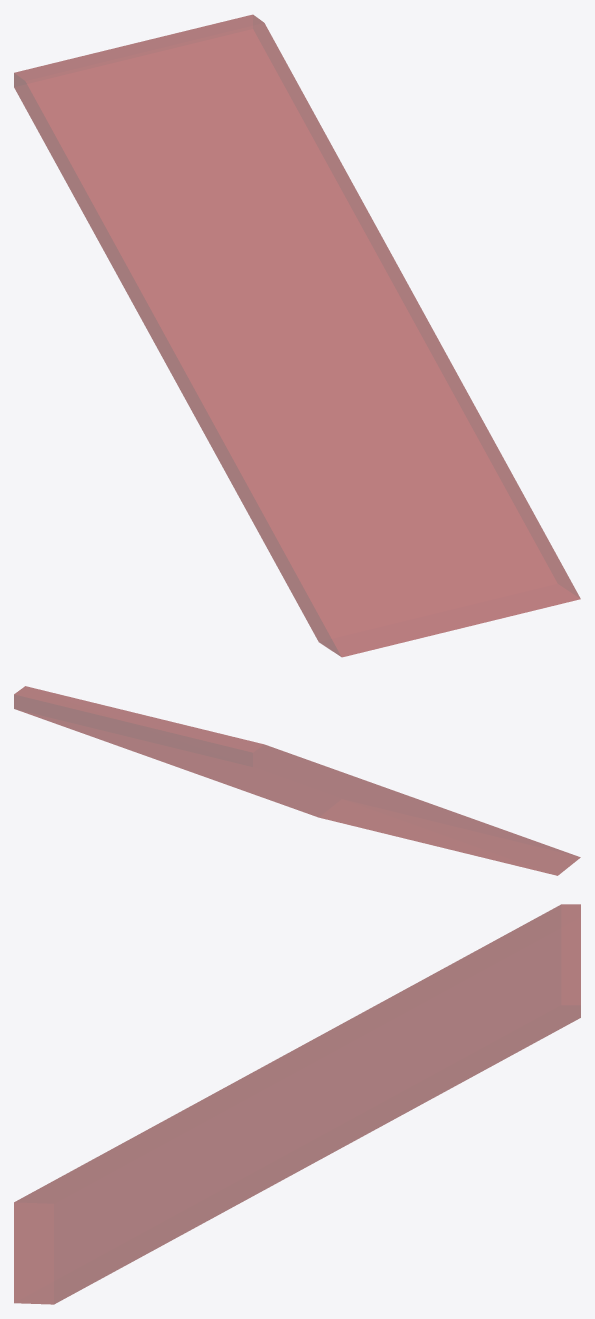
The model's file is SM_Bld_Stairs_01_Collision.fbx.
3 views of the same model, one above another, from view 1: azimuth 30°, elevation 25°; view 2: azimuth 150°, elevation 25°; view 3: azimuth 270°, elevation 25° (orthographic). The views are drawn at different scales.
Visible parts, largest first — view 1: SM_Bld_Stairs_01_Collision; view 2: SM_Bld_Stairs_01_Collision; view 3: SM_Bld_Stairs_01_Collision.
Part boxes in pixels (x1,y1,x2,y2): SM_Bld_Stairs_01_Collision: (14, 14, 580, 657); SM_Bld_Stairs_01_Collision: (14, 686, 580, 875); SM_Bld_Stairs_01_Collision: (14, 904, 580, 1304).
Size of the model in its own units: 217 by 300 by 515.
